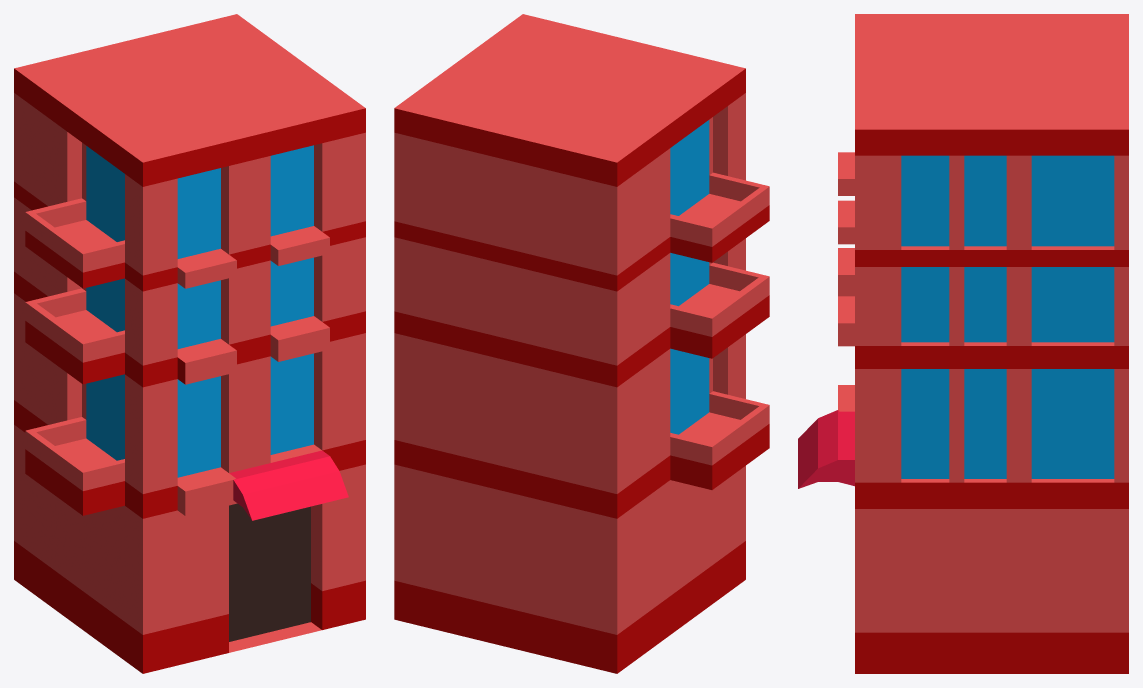
Rendered from pinkbinianObjs.fbx.
3 renders of one model, left to right at view 1: azimuth 30°, elevation 25°; view 2: azimuth 150°, elevation 25°; view 3: azimuth 270°, elevation 25°, orthographic. The views are drawn at different scales.
Parts seen in each view (by area): view 1: Cube.002; view 2: Cube.002; view 3: Cube.002.
Part boxes in pixels (left/top/right/bottom): Cube.002: left=14, top=14, right=365, bottom=673; Cube.002: left=394, top=14, right=769, bottom=673; Cube.002: left=798, top=14, right=1128, bottom=673.
Bounding box in the file's own units: 1218 × 2246 × 1237.
